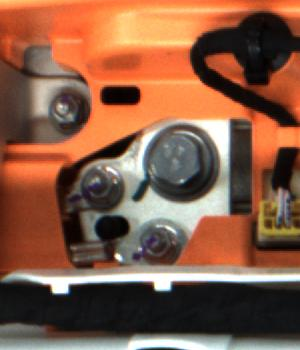nut_b: (137, 116, 225, 209)
screw_s: (75, 163, 121, 211), (135, 218, 180, 266), (41, 87, 88, 132)
